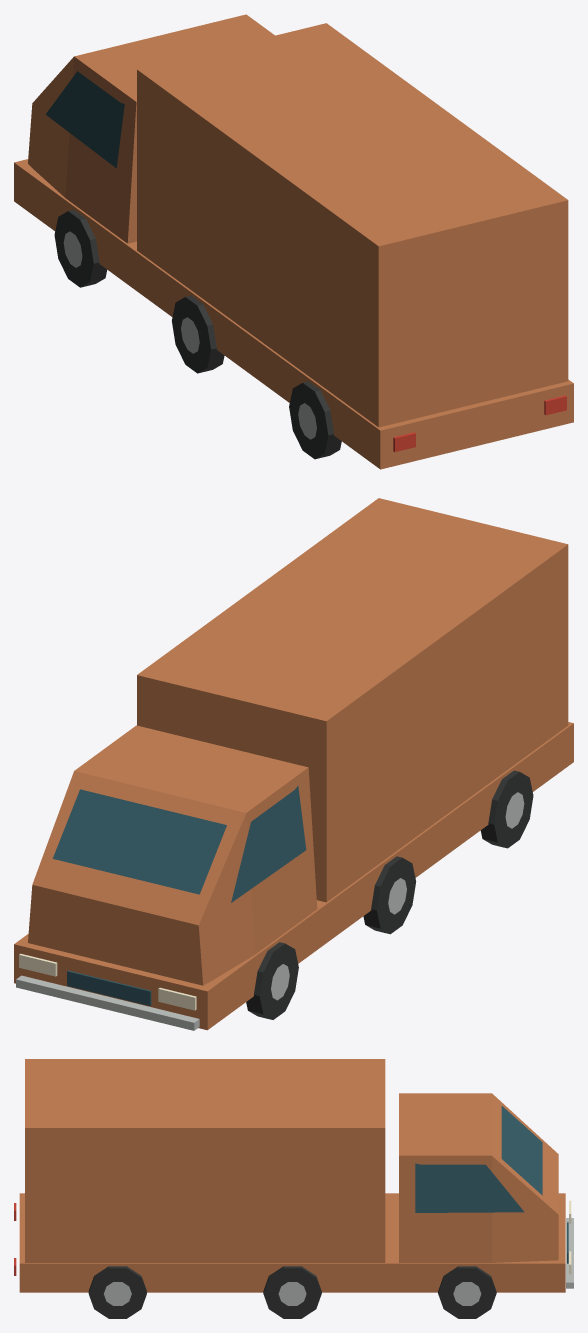
Rendered from truck.glb.
3 renders of one model, top to bottom at view 1: azimuth 30°, elevation 25°; view 2: azimuth 150°, elevation 25°; view 3: azimuth 270°, elevation 25°, orthographic. The views are drawn at different scales.
Parts seen in each view (by area): view 1: TruckModel traffic_copper, TruckModel traffic_rubber, TruckModel traffic_glass, TruckModel traffic_metal, TruckModel traffic_red; view 2: TruckModel traffic_copper, TruckModel traffic_glass, TruckModel traffic_rubber, TruckModel traffic_metal, TruckModel traffic_light; view 3: TruckModel traffic_copper, TruckModel traffic_glass, TruckModel traffic_rubber, TruckModel traffic_metal.
Part boxes in pixels (x1=…): TruckModel traffic_copper: x1=14, y1=14, x2=573, y2=469; TruckModel traffic_rubber: x1=54, y1=209, x2=341, y2=459; TruckModel traffic_glass: x1=45, y1=71, x2=124, y2=168; TruckModel traffic_metal: x1=63, y1=231, x2=316, y2=439; TruckModel traffic_red: x1=393, y1=395, x2=566, y2=451; TruckModel traffic_copper: x1=14, y1=498, x2=573, y2=1030; TruckModel traffic_glass: x1=52, y1=786, x2=306, y2=1005; TruckModel traffic_rubber: x1=246, y1=770, x2=533, y2=1019; TruckModel traffic_metal: x1=16, y1=792, x2=524, y2=1030; TruckModel traffic_light: x1=19, y1=953, x2=196, y2=1010; TruckModel traffic_copper: x1=19, y1=1059, x2=565, y2=1292; TruckModel traffic_glass: x1=415, y1=1106, x2=568, y2=1263; TruckModel traffic_rubber: x1=88, y1=1266, x2=496, y2=1318; TruckModel traffic_metal: x1=104, y1=1218, x2=573, y2=1305.
Size of the model in its own units: 2.68 by 3.11 by 8.41.
